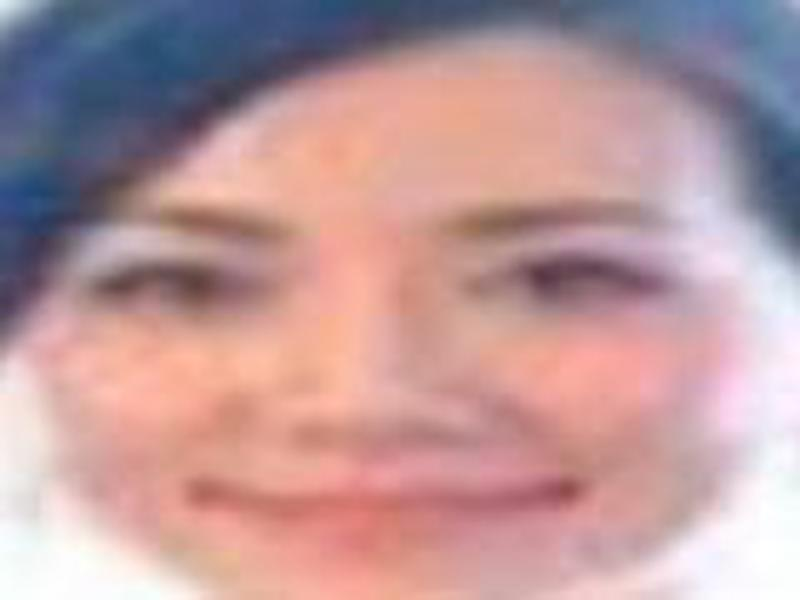without_mask: (40, 133, 768, 600)
